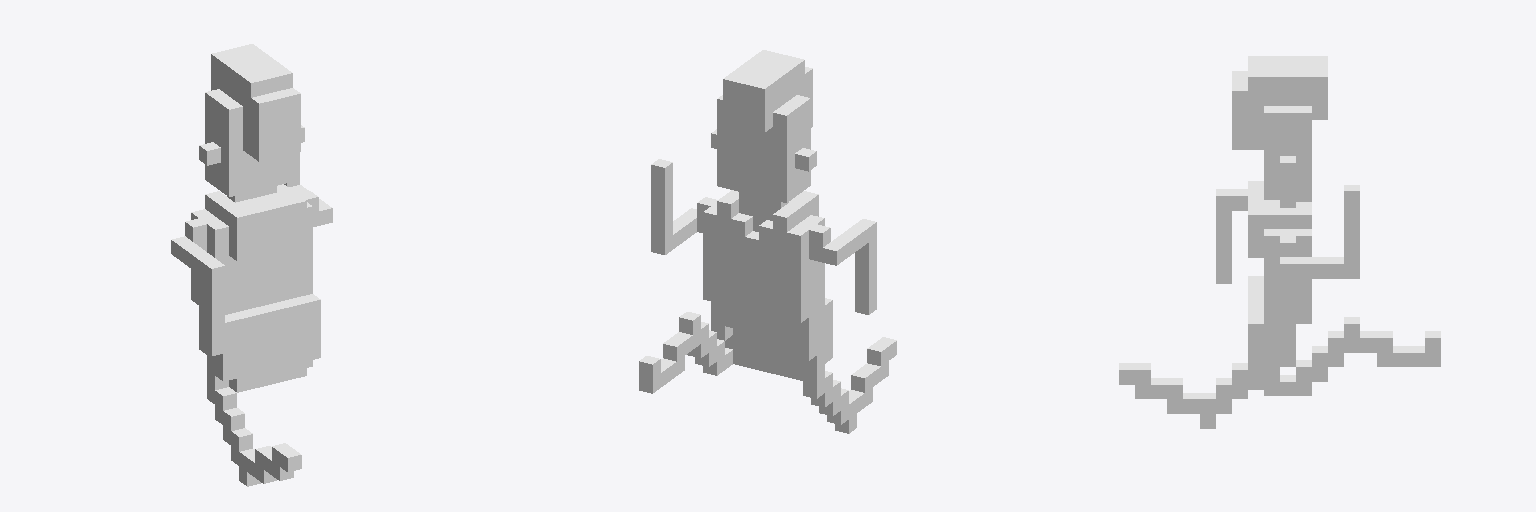
File: character_One_Run1-04.obj
The picture shows the model from 3 angles: view 1: azimuth 30°, elevation 25°; view 2: azimuth 150°, elevation 25°; view 3: azimuth 270°, elevation 25°; orthographic projection.
Size of the model in its own units: 11 by 26 by 20.